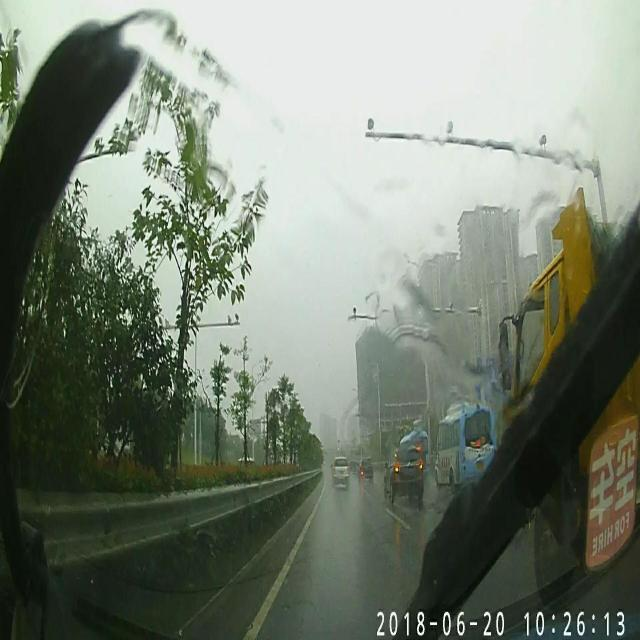car: (498, 204, 638, 594), (384, 444, 424, 512), (329, 454, 349, 488), (358, 458, 373, 484)
